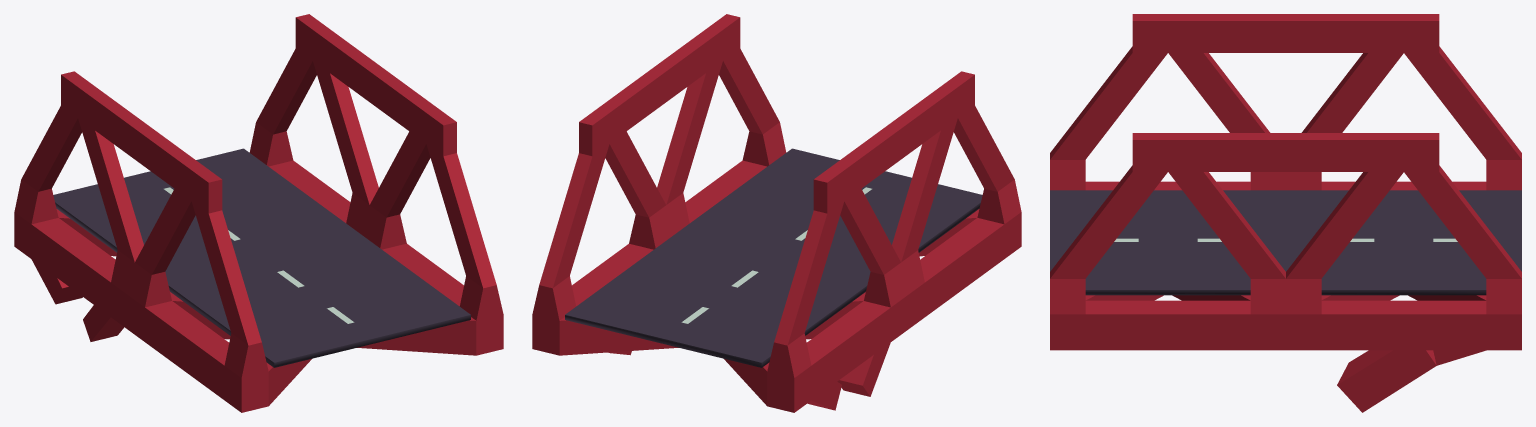
Rendered from Bridge.fbx.
The picture shows the model from 3 angles, left to right: view 1: azimuth 30°, elevation 25°; view 2: azimuth 150°, elevation 25°; view 3: azimuth 270°, elevation 25°; orthographic projection. The views are drawn at different scales.
Parts seen in each view (by area): view 1: BridgeSide, BridgeMiddle, BridgeBroken; view 2: BridgeSide, BridgeMiddle, BridgeBroken; view 3: BridgeSide, BridgeMiddle, BridgeBroken.
Part boxes in pixels (left/top/right/bottom): BridgeSide: left=78, top=26, right=503, bottom=412; BridgeMiddle: left=14, top=29, right=350, bottom=304; BridgeBroken: left=31, top=14, right=378, bottom=341; BridgeSide: left=596, top=14, right=1021, bottom=329; BridgeMiddle: left=532, top=97, right=890, bottom=412; BridgeBroken: left=579, top=109, right=907, bottom=412; BridgeSide: left=1050, top=14, right=1403, bottom=350; BridgeMiddle: left=1286, top=14, right=1521, bottom=350; BridgeBroken: left=1286, top=14, right=1521, bottom=412.
Size of the model in its own units: 266 by 252 by 400.
